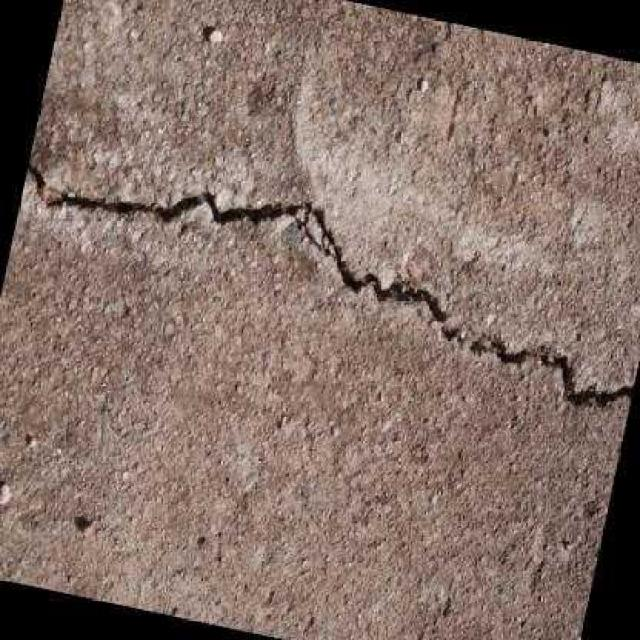D00: (27, 160, 633, 404)
